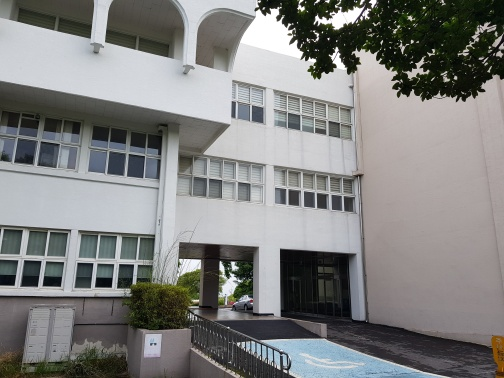Main Building of University: (7, 6, 381, 342), (165, 60, 382, 331)
